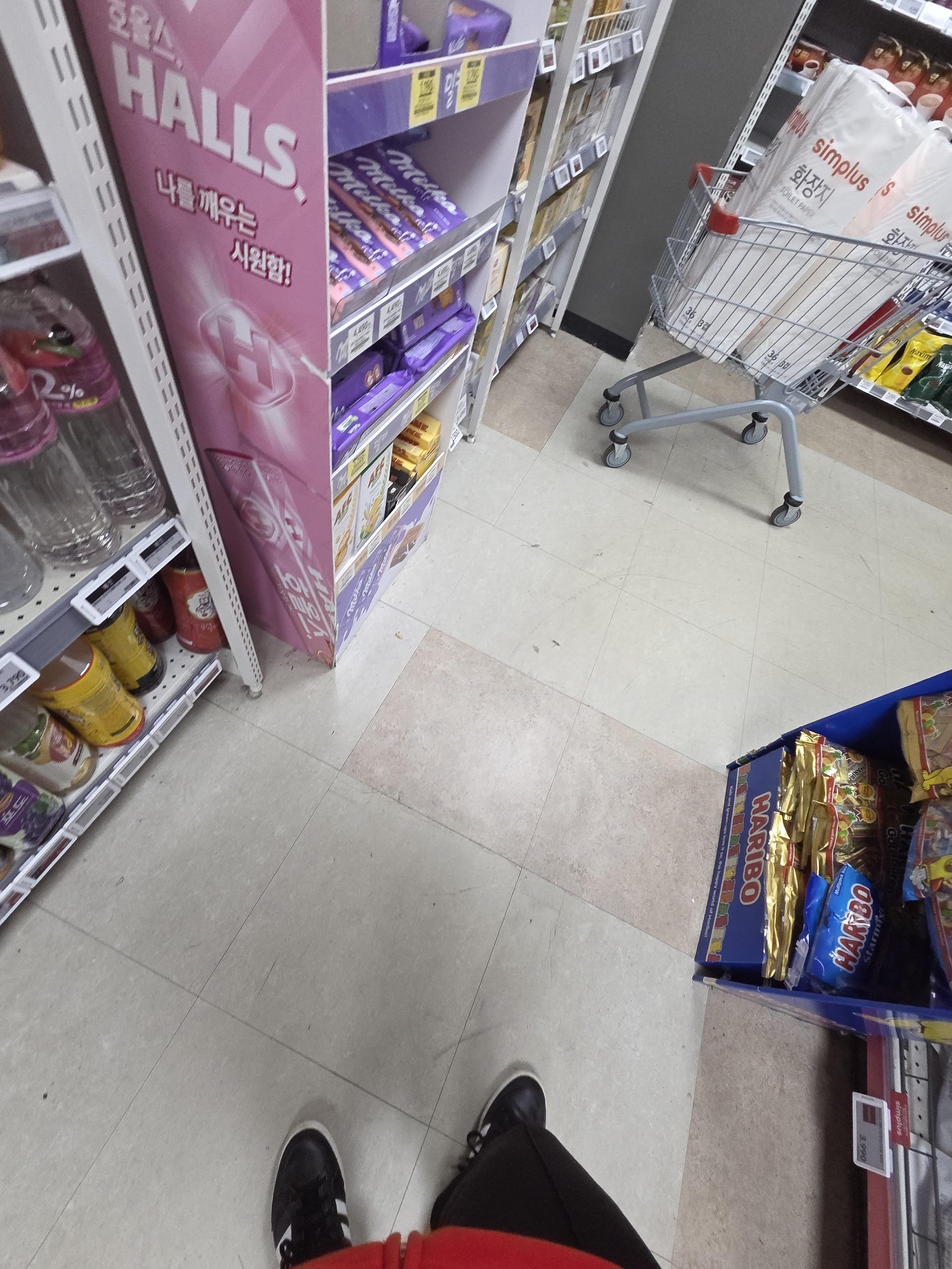fully_cart: (588, 50, 952, 544)
